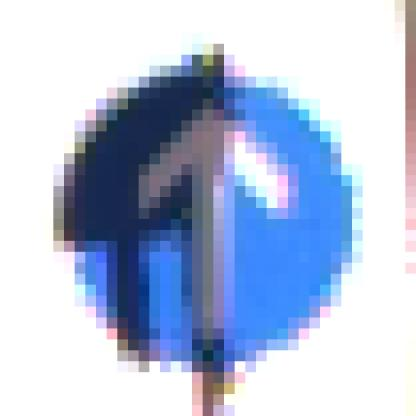AheadOnly: (54, 56, 364, 362)
